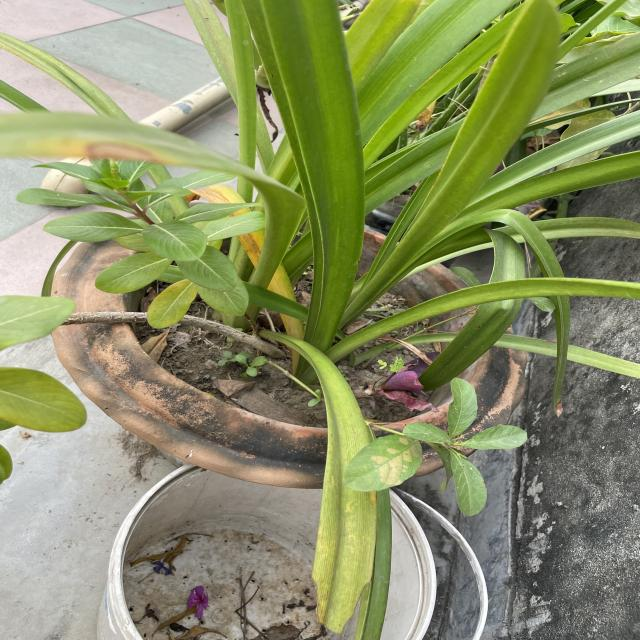Breeding Place: (42, 198, 541, 486), (107, 454, 522, 640)
